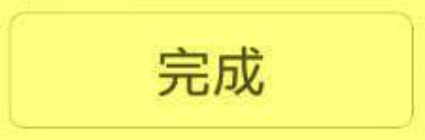Button: (1, 1, 424, 139)
